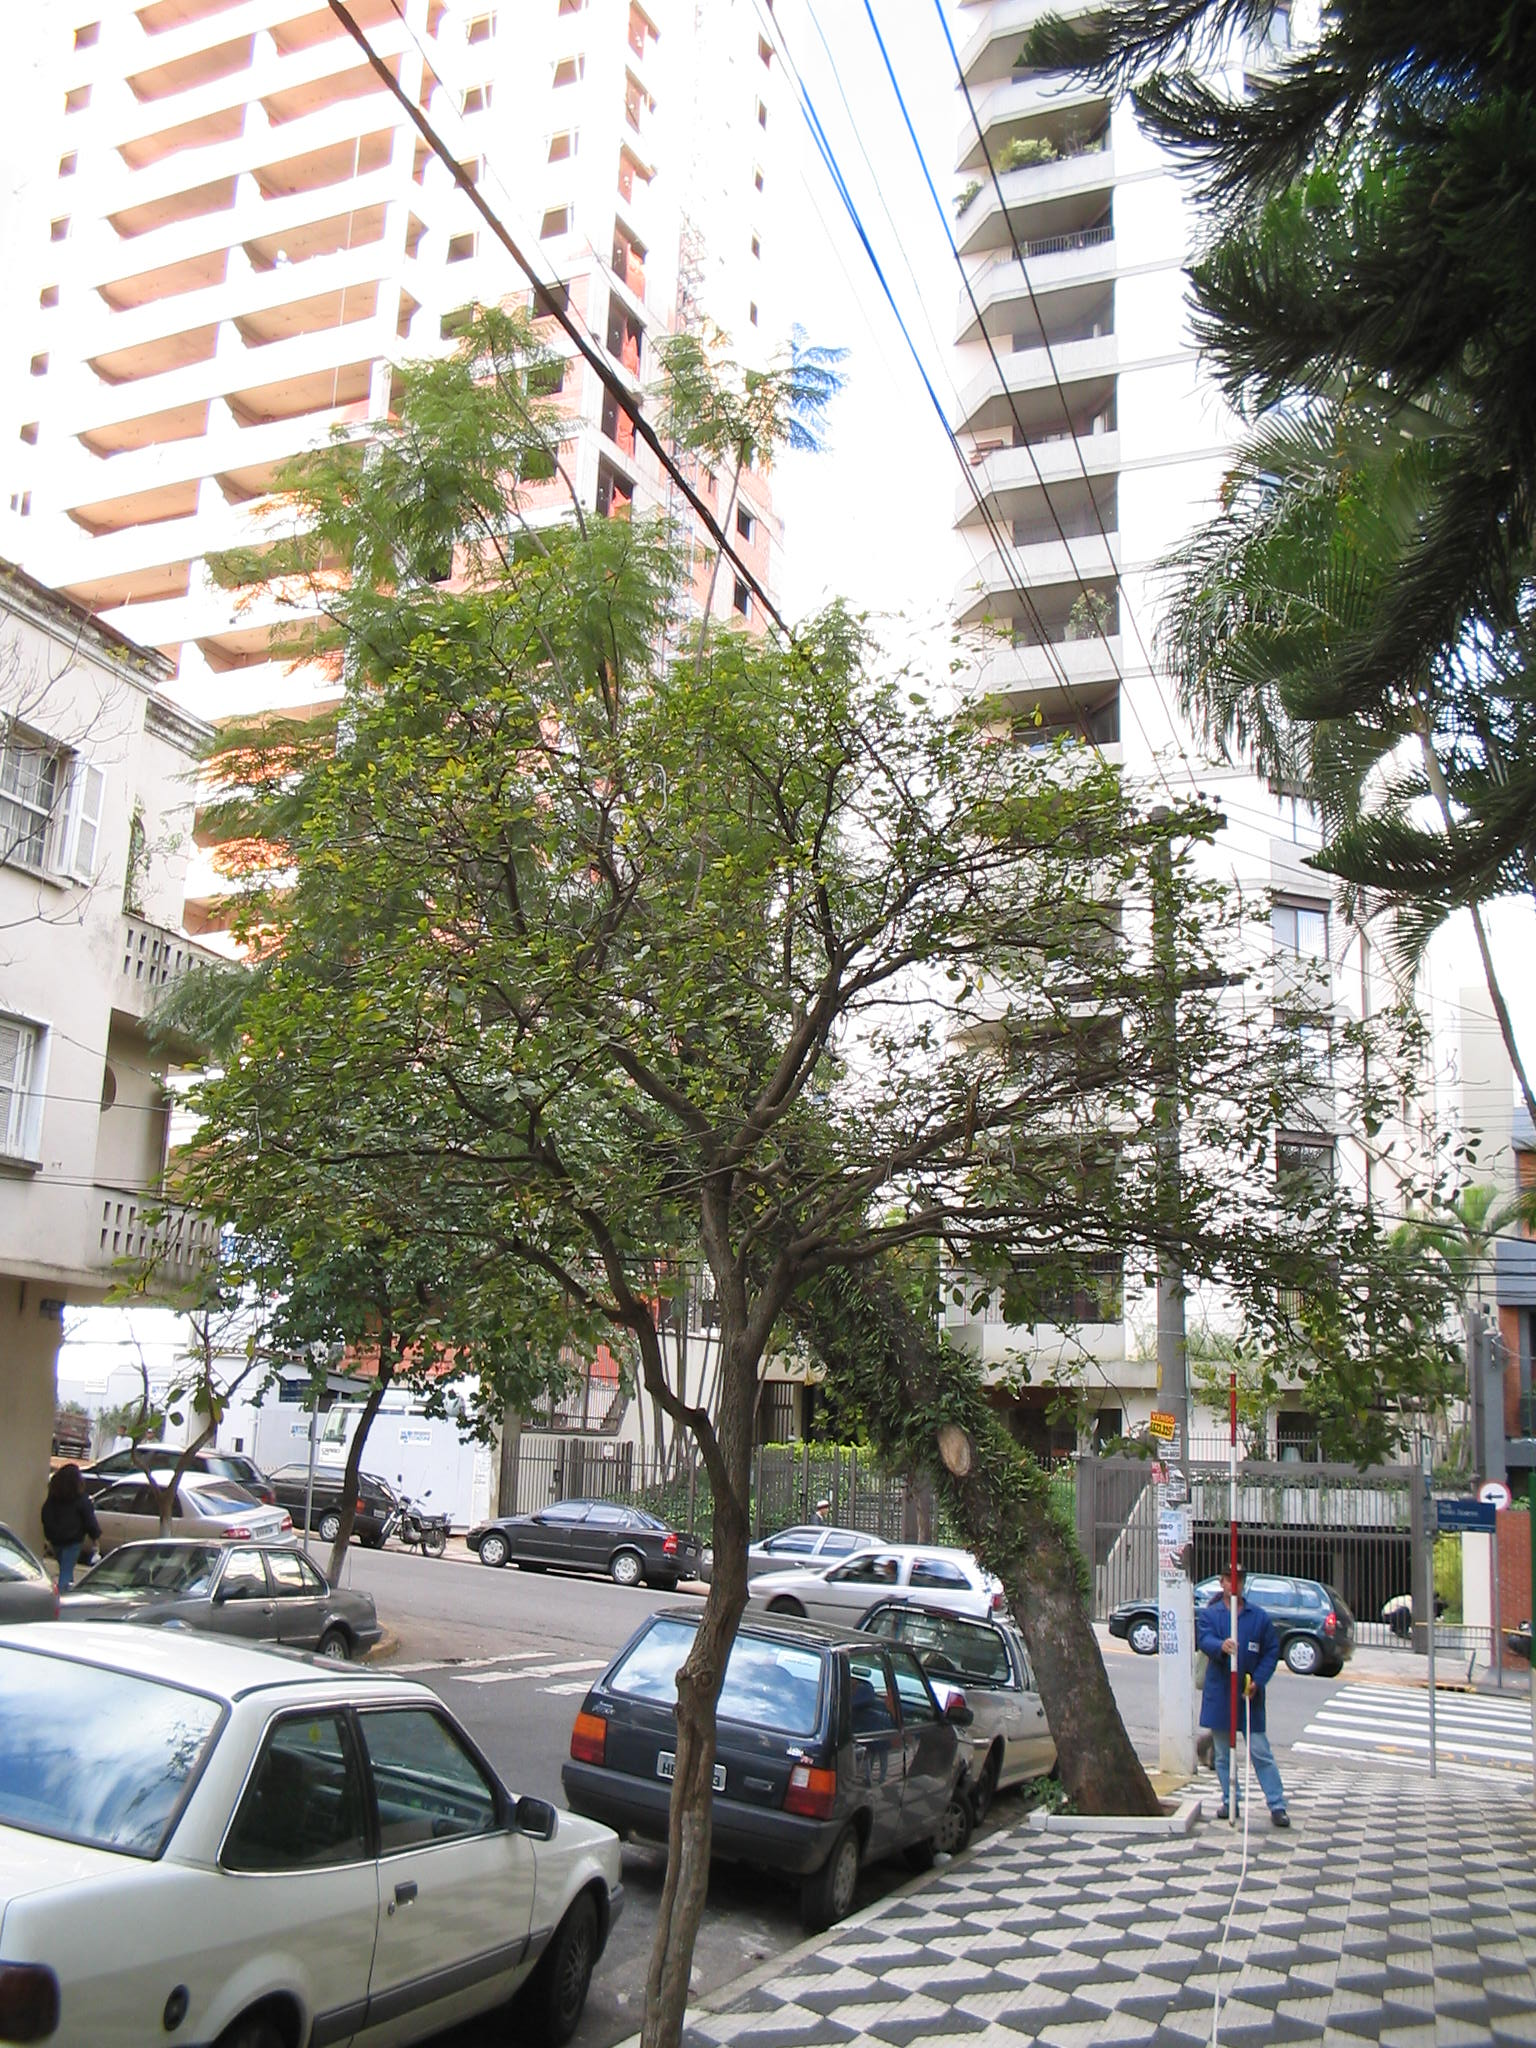crown: (123, 311, 1459, 1479)
stem: (778, 1266, 1183, 1817), (607, 1495, 779, 2045)
stick: (1187, 1376, 1267, 1821)
tree: (118, 305, 1467, 1824)
